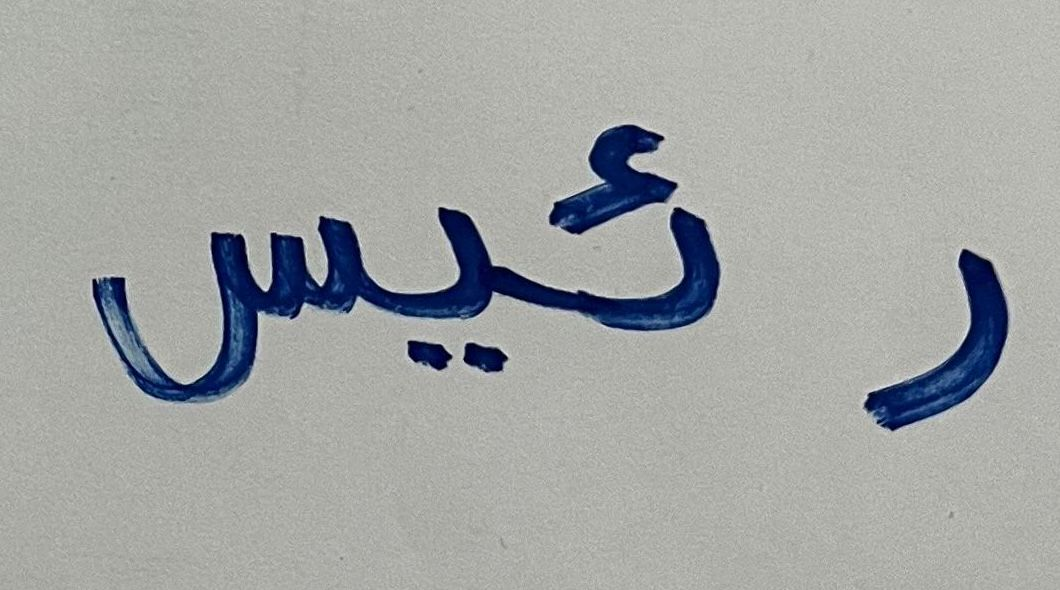hamza: (522, 83, 780, 386)
reh: (790, 164, 1045, 501)
seen: (50, 146, 369, 418)
yeh: (374, 145, 515, 428)
